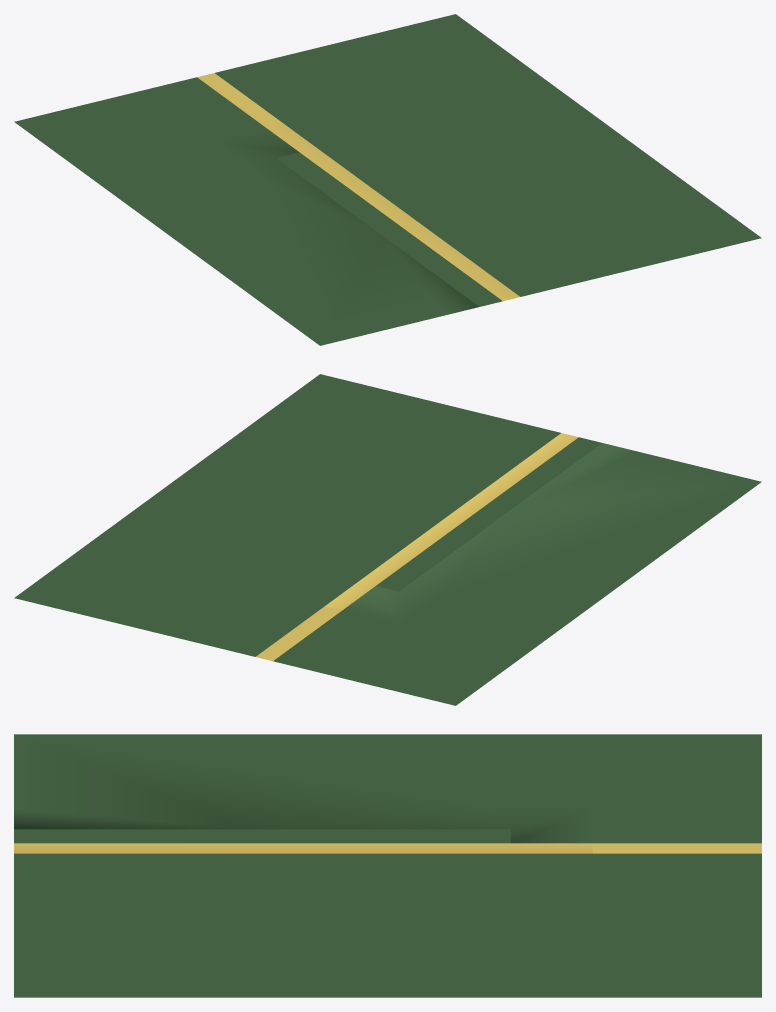
File: mdl_farm.gltf
3 renders of one model, top to bottom at view 1: azimuth 30°, elevation 25°; view 2: azimuth 150°, elevation 25°; view 3: azimuth 270°, elevation 25°, orthographic. The views are drawn at different scales.
Visible parts, largest first — view 1: Walec.189; view 2: Walec.189; view 3: Walec.189.
Boxes of the visible parts, bbox=[...] form: Walec.189: bbox=[14, 14, 761, 345]; Walec.189: bbox=[14, 374, 761, 705]; Walec.189: bbox=[14, 734, 761, 997].
Bounding box in the file's own units: 60 × 0.3122 × 72.
1 material, 1 textured.
